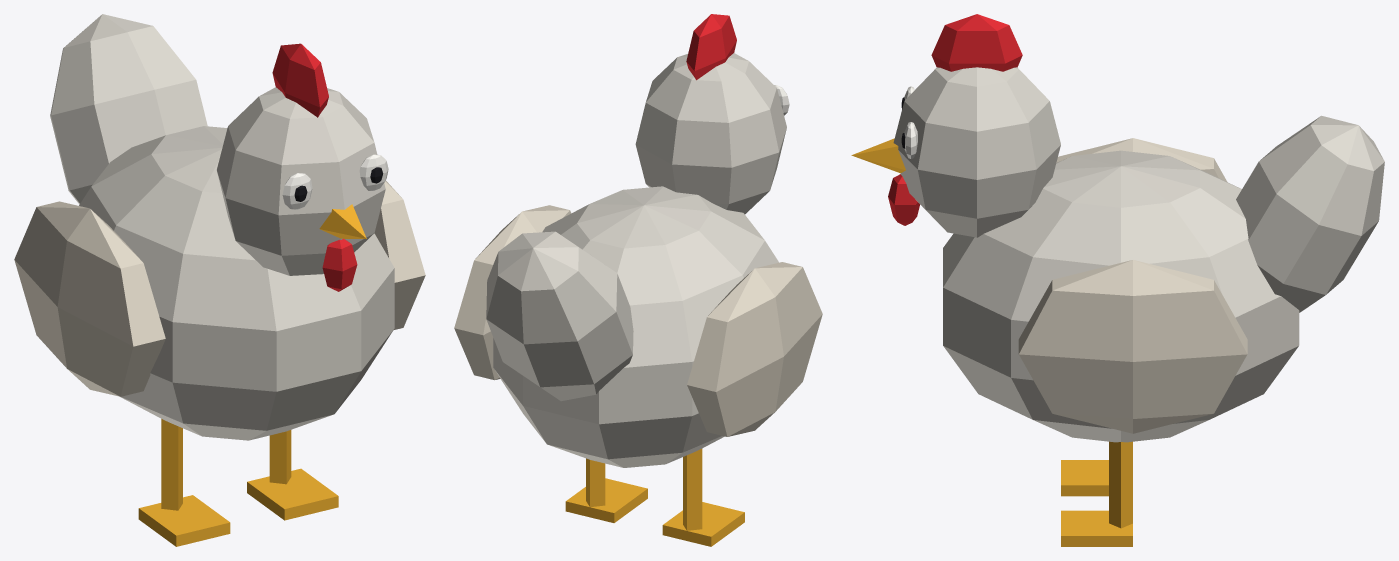
The model's file is farm_chicken.glb.
The picture shows the model from 3 angles, left to right: view 1: azimuth 30°, elevation 25°; view 2: azimuth 150°, elevation 25°; view 3: azimuth 270°, elevation 25°; orthographic projection. The views are drawn at different scales.
Visible parts, largest first — view 1: body_hen_white, body_hen_wing (×2), head_hen_white, legs_hen_yellow, head_hen_red, face_white, head_hen_yellow; view 2: body_hen_white, body_hen_wing (×2), head_hen_white, legs_hen_yellow, head_hen_red; view 3: body_hen_white, body_hen_wing (×2), head_hen_white, legs_hen_yellow, head_hen_red, head_hen_yellow.
Boxes of the visible parts, x1,y1,x2,y2 form: body_hen_white: (50,14,394,440); body_hen_wing (×2): (14,180,425,396); head_hen_white: (217,87,385,275); legs_hen_yellow: (138,419,338,546); head_hen_red: (272,43,357,291); face_white: (282,154,388,209); head_hen_yellow: (319,204,366,238); body_hen_white: (486,186,778,467); body_hen_wing (×2): (454,205,822,436); head_hen_white: (635,53,786,214); legs_hen_yellow: (565,449,744,546); head_hen_red: (686,14,736,80); body_hen_white: (943,115,1384,442); body_hen_wing (×2): (1018,138,1247,433); head_hen_white: (893,67,1060,237); legs_hen_yellow: (1061,441,1132,546); head_hen_red: (888,14,1022,225); head_hen_yellow: (851,138,905,173).
Size of the model in its own units: 0.3 by 0.455 by 0.4447.
